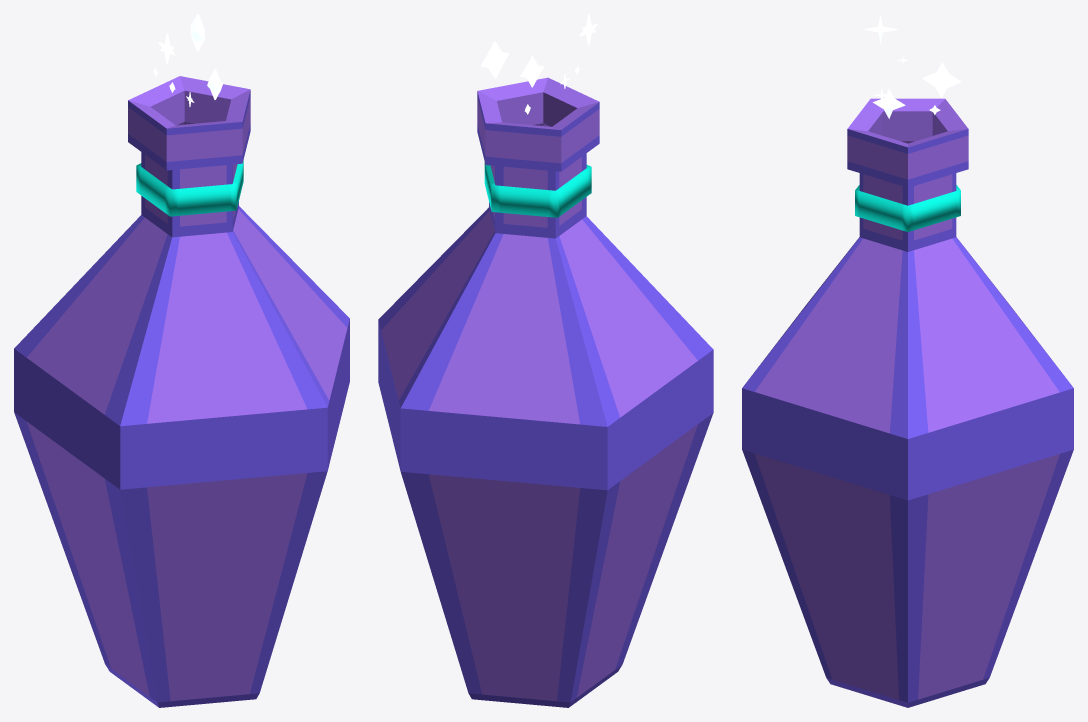
File: potion.gltf
3 views of the same model, side by side, from view 1: azimuth 30°, elevation 25°; view 2: azimuth 150°, elevation 25°; view 3: azimuth 270°, elevation 25° (orthographic). The views are drawn at different scales.
Parts seen in each view (by area): view 1: Torus.005, Cube.000; view 2: Torus.005, Cube.000; view 3: Torus.005, Cube.000.
Part boxes in pixels (x1,y1,x2,y2): Torus.005: (14, 76, 349, 707); Cube.000: (153, 14, 223, 106); Torus.005: (378, 77, 713, 707); Cube.000: (481, 14, 597, 114); Torus.005: (742, 98, 1073, 707); Cube.000: (864, 14, 961, 118).
Size of the model in its own units: 0.3436 by 0.7691 by 0.3613.
